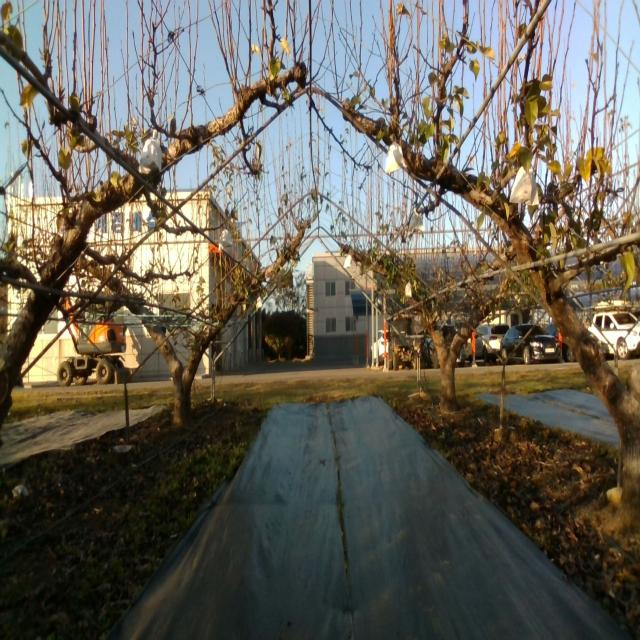pearbags: (509, 165, 540, 207), (140, 138, 162, 174), (384, 142, 406, 175), (407, 209, 425, 238), (218, 228, 233, 252)
